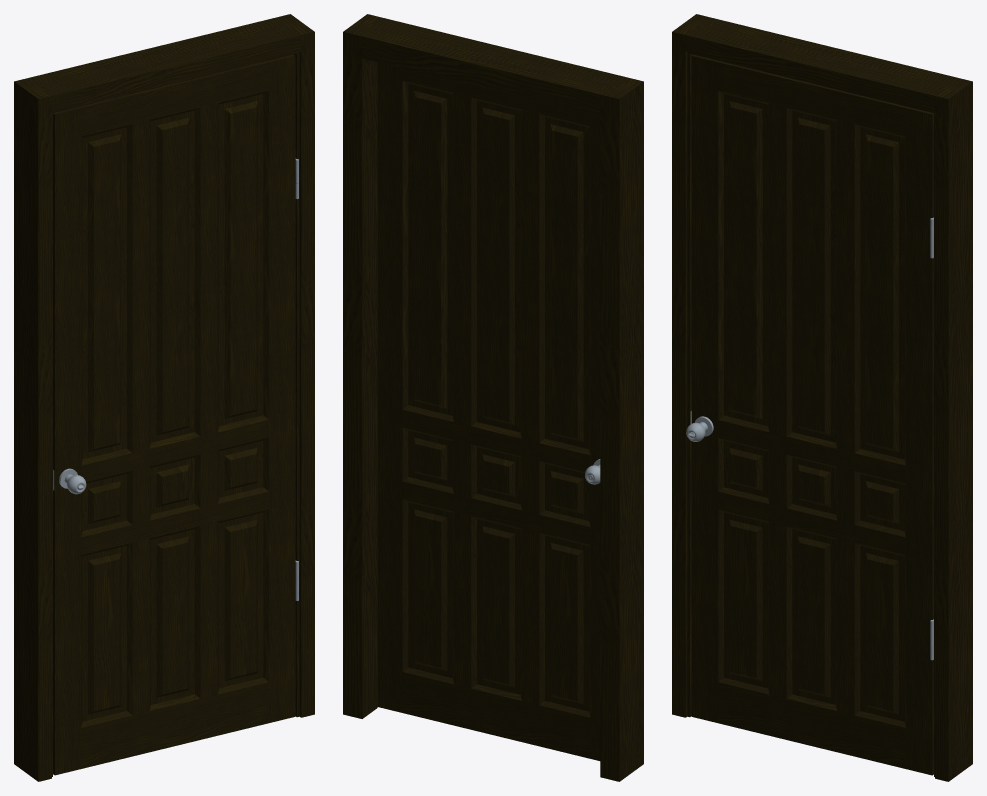
Rendered from door.glb.
3 views of the same model, side by side, from view 1: azimuth 30°, elevation 25°; view 2: azimuth 150°, elevation 25°; view 3: azimuth 330°, elevation 25° (orthographic).
Visible parts, largest first — view 1: Object_2; view 2: Object_2; view 3: Object_2.
Part boxes in pixels (bbox=[...]): Object_2: bbox=[14, 14, 314, 781]; Object_2: bbox=[343, 14, 643, 781]; Object_2: bbox=[672, 14, 972, 781].
Size of the model in its own units: 45.94 by 108 by 10.55.
Materials: 1 (1 with a texture image).
